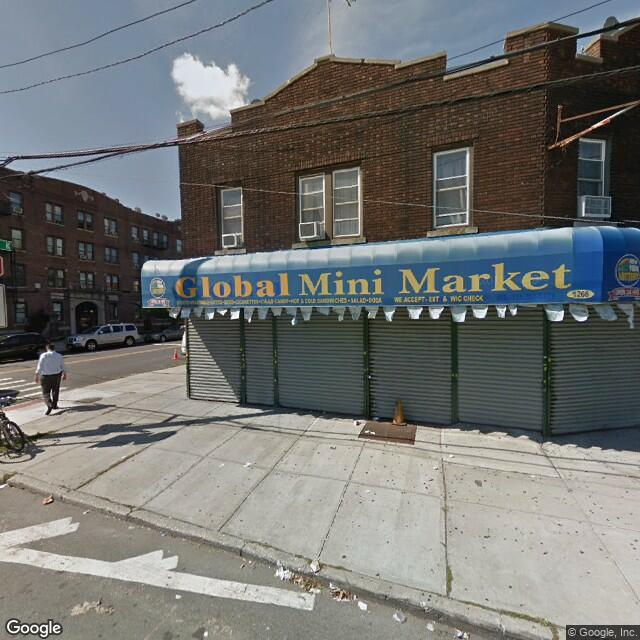litter: (331, 588, 352, 602), (455, 628, 474, 640), (275, 568, 293, 580), (393, 610, 406, 623), (312, 561, 321, 575), (41, 496, 56, 504), (366, 428, 378, 438), (357, 602, 370, 610), (426, 623, 435, 632), (448, 452, 456, 460), (366, 488, 375, 495), (353, 420, 362, 426), (174, 594, 184, 599), (1, 481, 7, 488), (81, 510, 89, 515), (243, 463, 251, 467), (240, 565, 248, 569), (162, 534, 170, 538), (531, 476, 538, 479)
